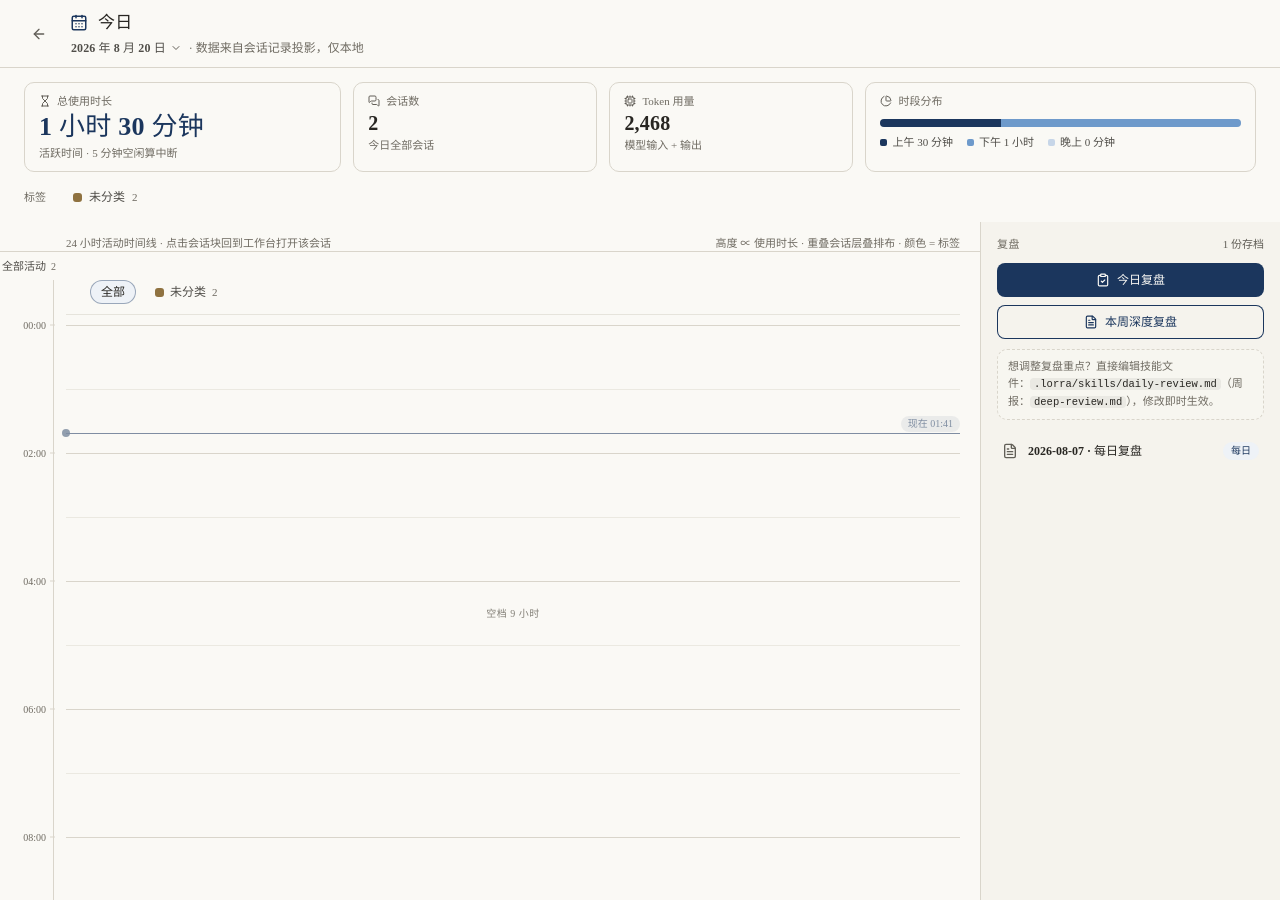
it: Requirement: 应用内阅读 › 退化:read 失败 → modal 显示错误与重试,不白屏;重试成功恢复内容
Click the button with test id "review-item" at (1130, 451), box [991, 432, 1270, 470]
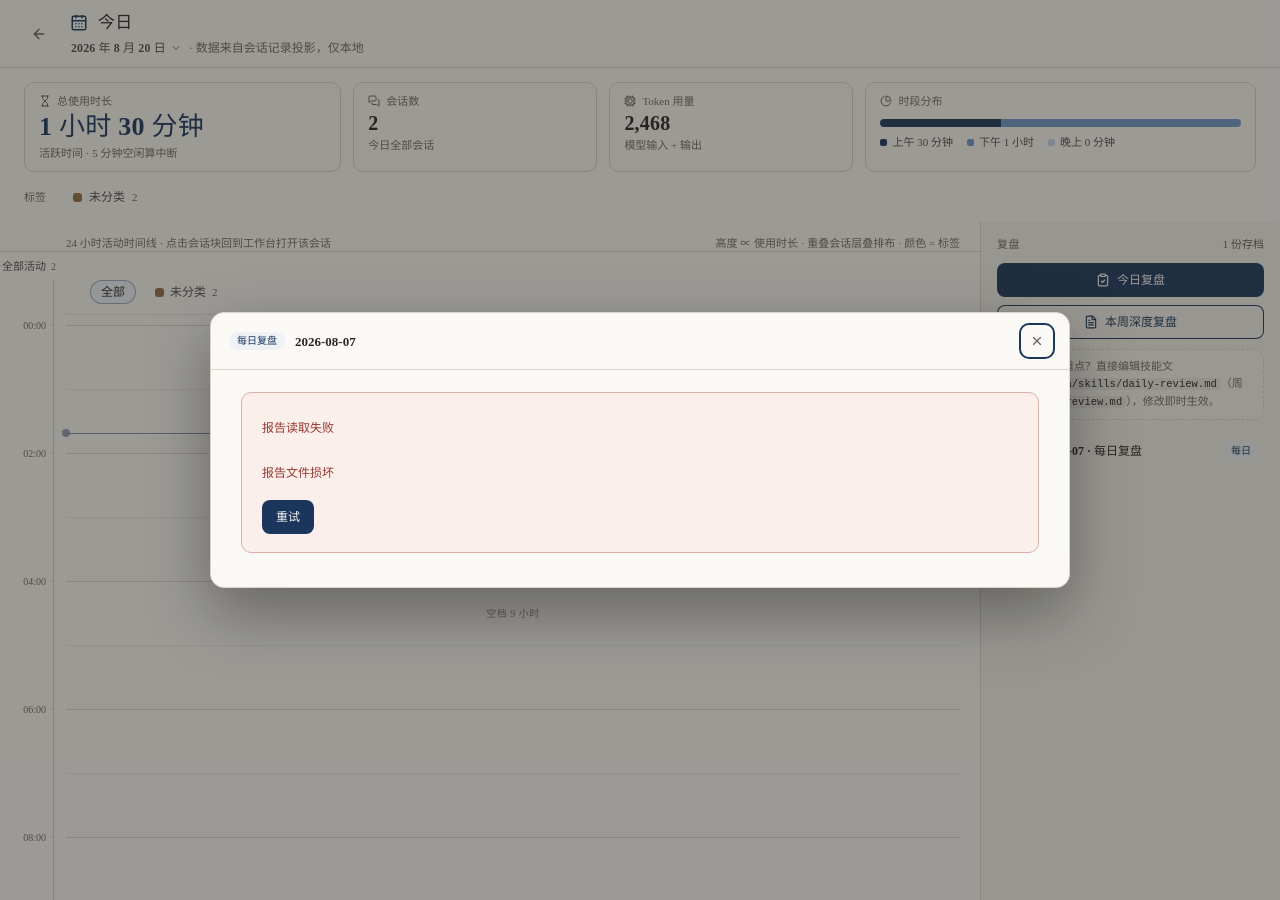
Expected: the text "报告文件损坏" is shown, [262, 462, 334, 484]
Expected: the button "重试" is shown
# 重试 → 再次 read → 内容渲染,错误消失
Click the button "重试" at (288, 517), box [262, 500, 314, 534]
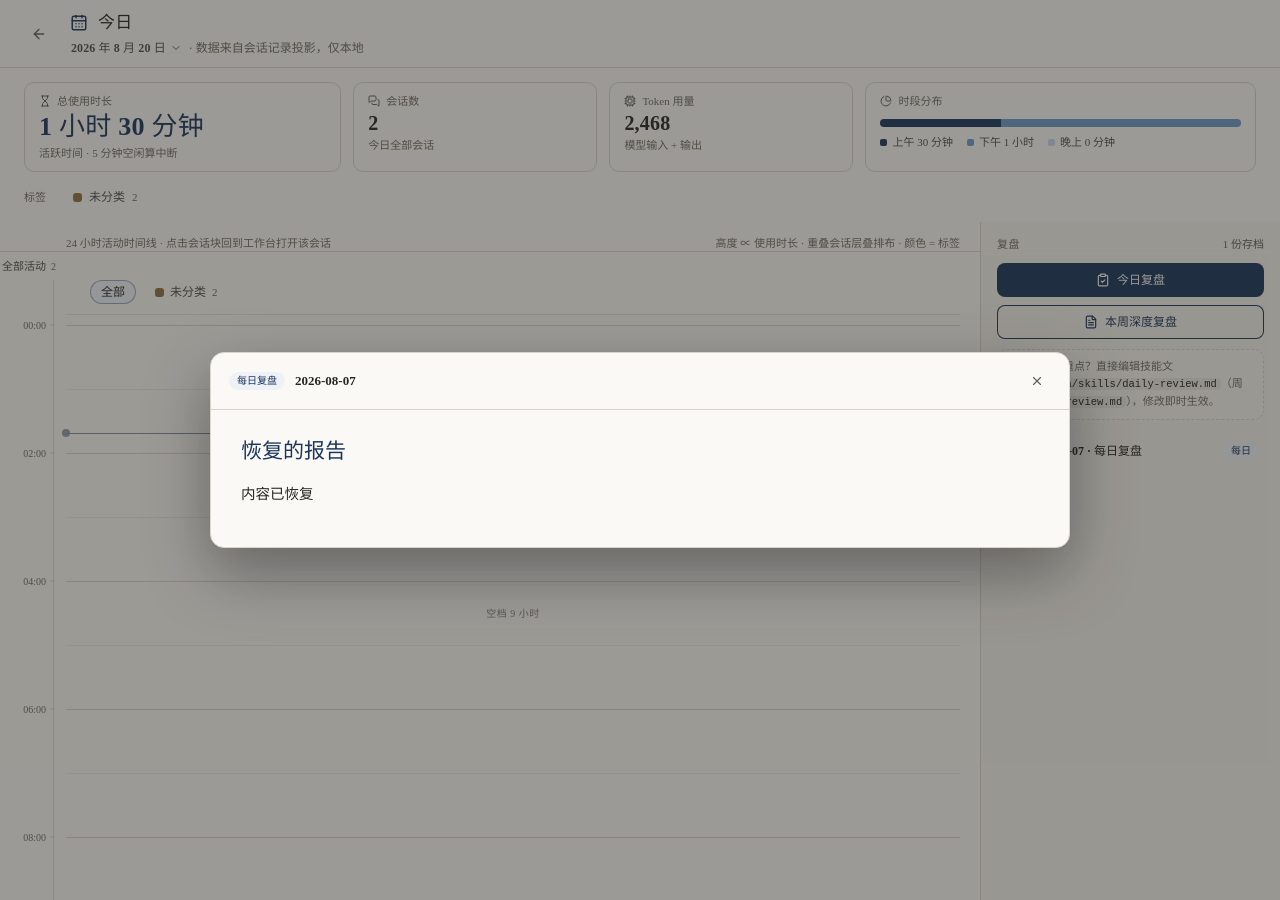
Expected: the heading "恢复的报告" is shown, [241, 439, 346, 463]
Expected: the text "报告文件损坏" is gone
